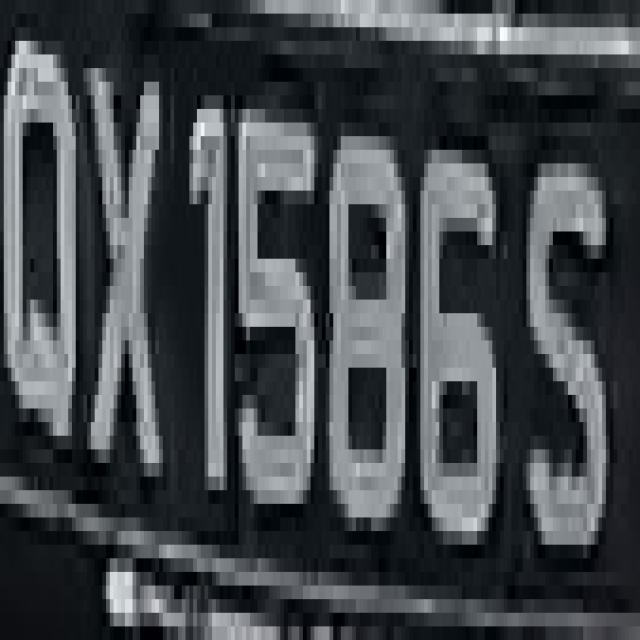1: (182, 109, 231, 558)
5: (223, 68, 329, 558)
6: (417, 123, 508, 558)
8: (314, 122, 413, 544)
Q: (8, 27, 83, 463)
S: (522, 122, 614, 586)
X: (80, 28, 174, 518)
